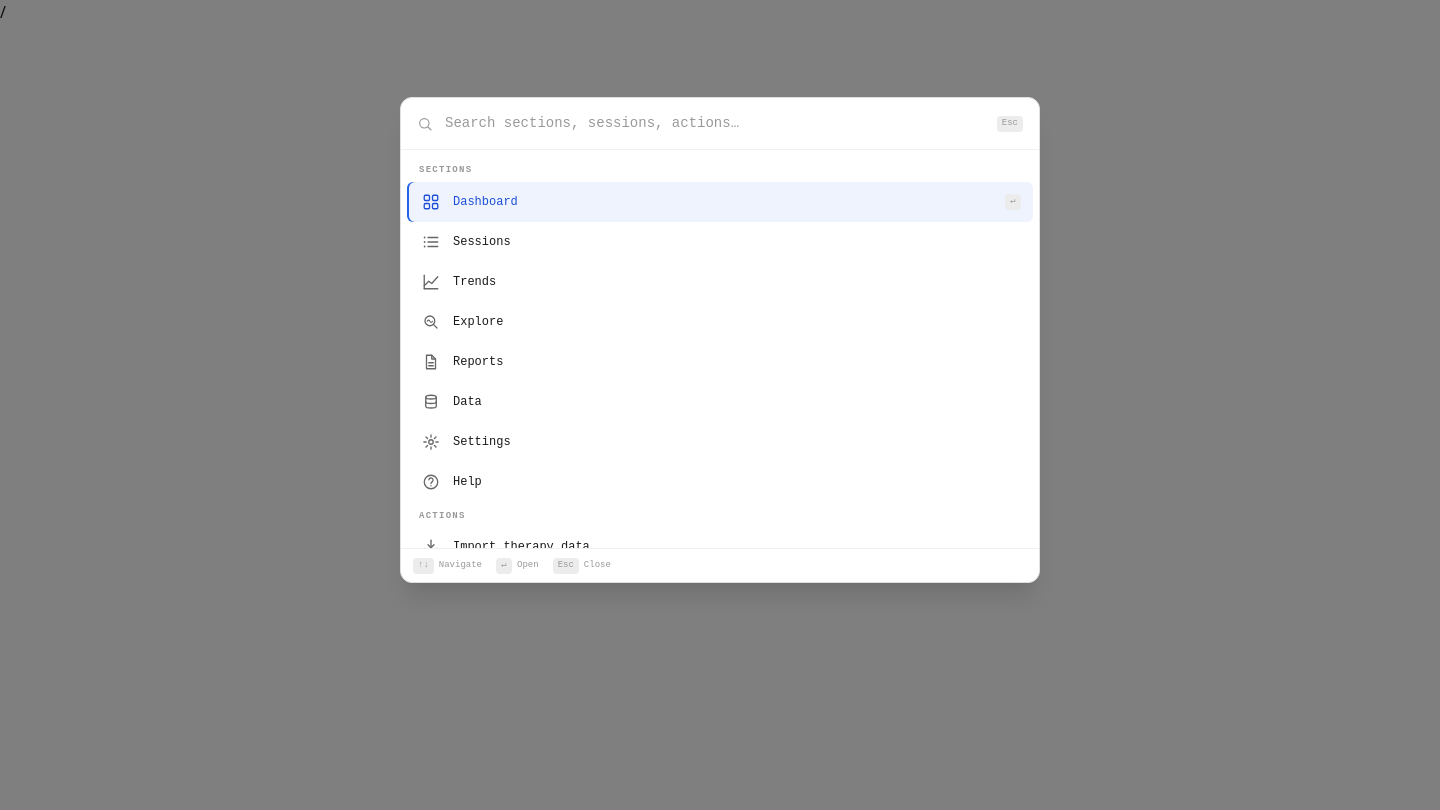
Test: CommandPalette › fuzzy filtering › shows the empty state for a non-date query with no matches
Type "zzzznomatch" into the dropdown at (715, 124), box [443,112,987,135]
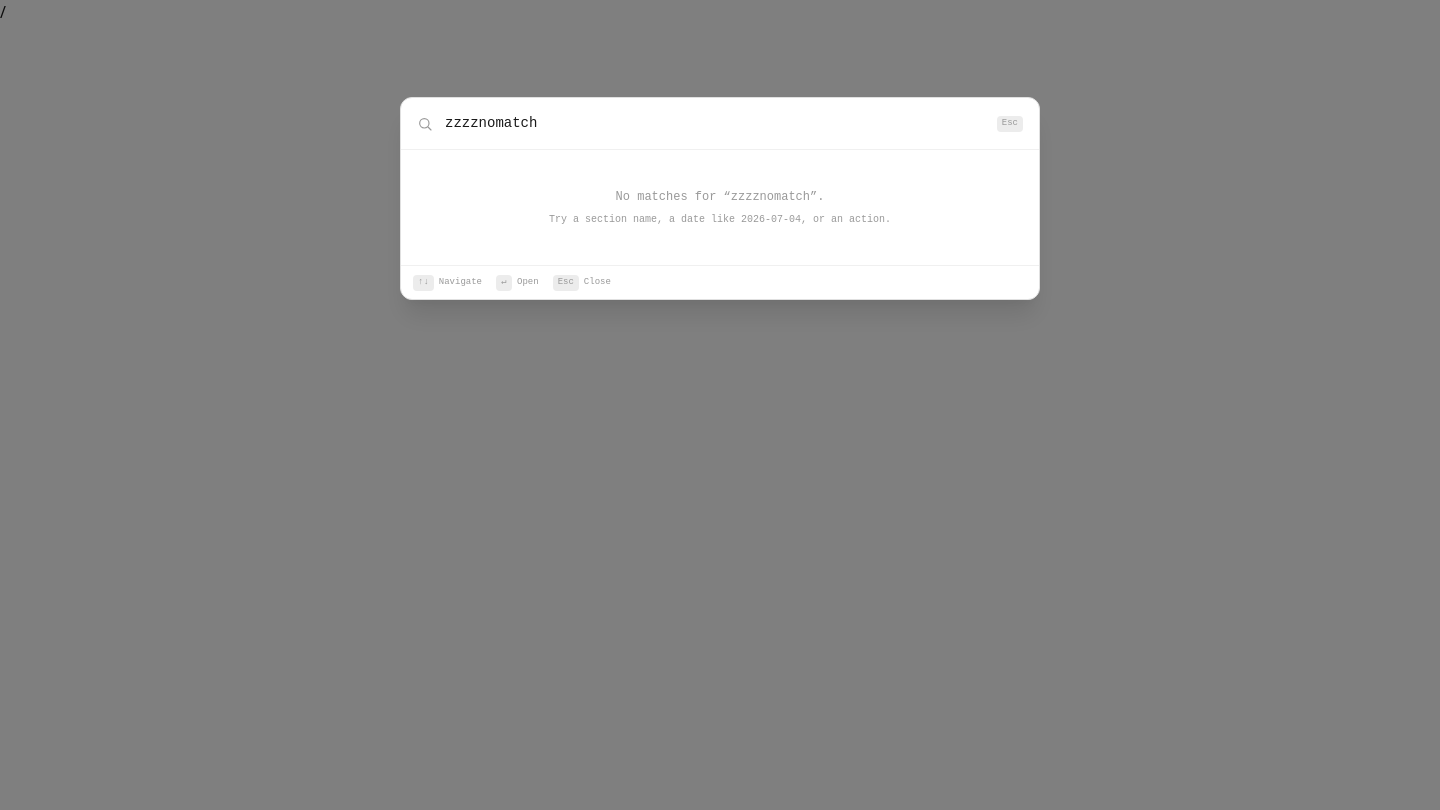
Check: no options are shown
Check: the text "No matches for “zzzznomatch”." is shown, box [616,190,824,204]
